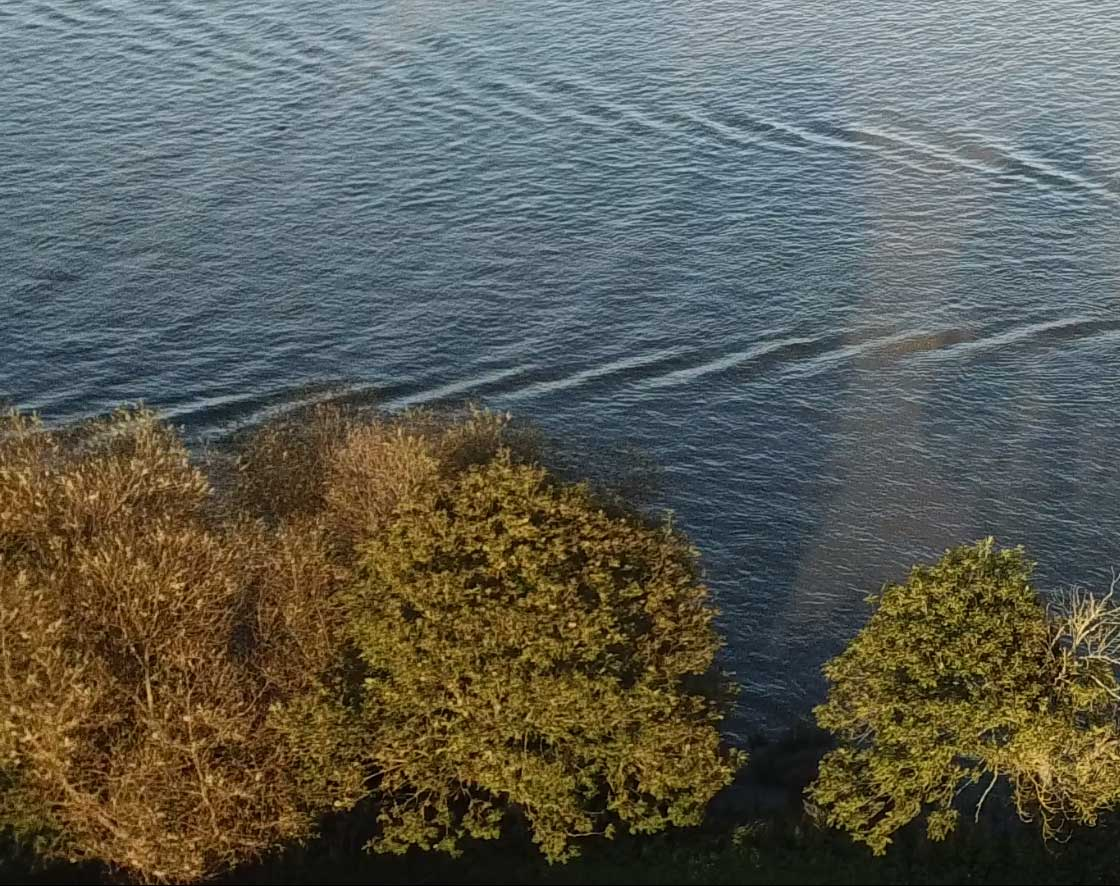trees: (2, 391, 760, 871)
water: (731, 53, 1120, 425), (515, 292, 1026, 569), (372, 77, 765, 379), (79, 114, 331, 315)
